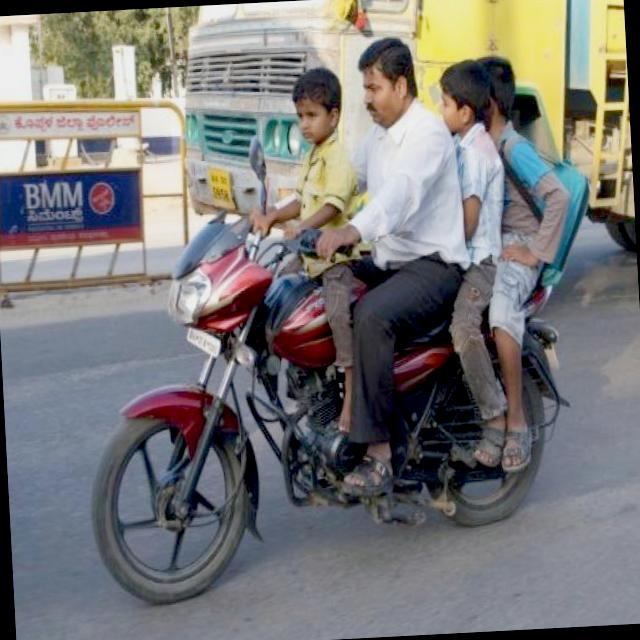motorcycle: (71, 185, 594, 621)
person: (454, 44, 584, 371), (349, 27, 478, 355), (428, 55, 554, 338), (276, 61, 390, 341)
rider_region: (62, 26, 597, 606)
